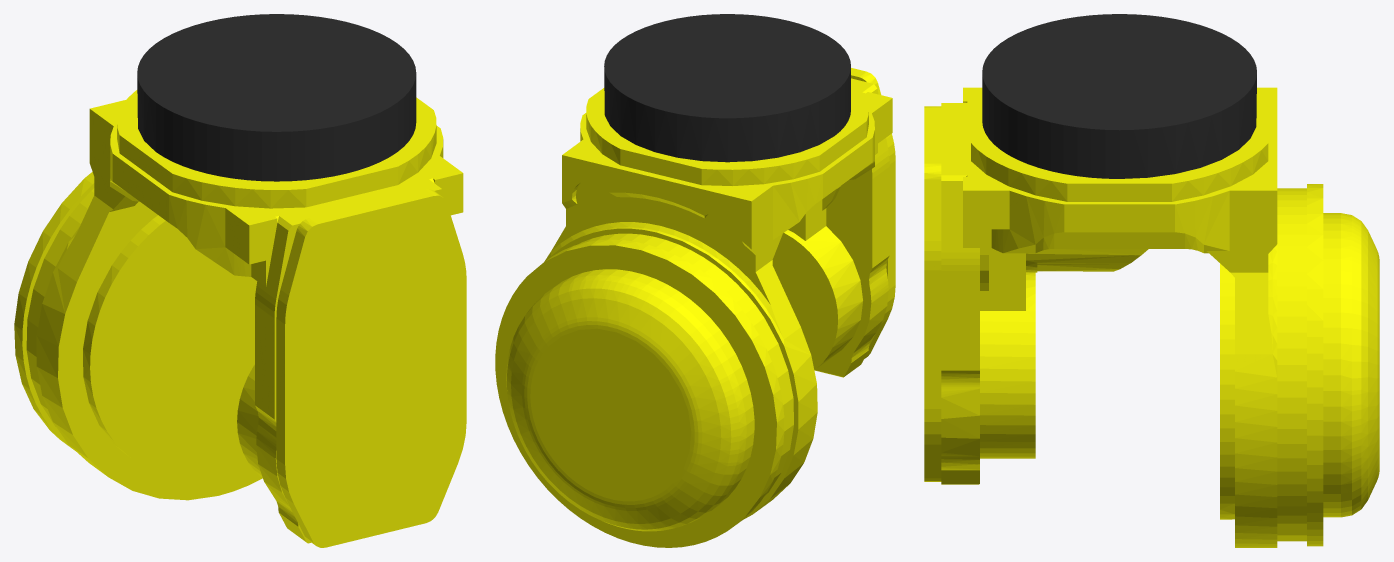
The picture shows the model from 3 angles, left to right: view 1: azimuth 30°, elevation 25°; view 2: azimuth 150°, elevation 25°; view 3: azimuth 270°, elevation 25°; orthographic projection. The views are drawn at different scales.
Visible parts, largest first — view 1: node; view 2: node; view 3: node.
Part boxes in pixels (left/top/right/bottom): node: left=14, top=14, right=466, bottom=547; node: left=495, top=14, right=895, bottom=547; node: left=924, top=14, right=1379, bottom=547.
Size of the model in its own units: 246 by 341 by 306.
